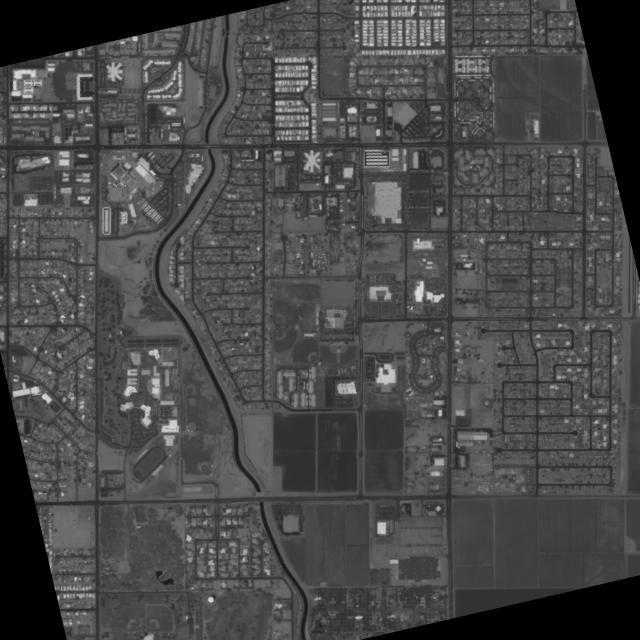storage-tank: (205, 594, 214, 603)
